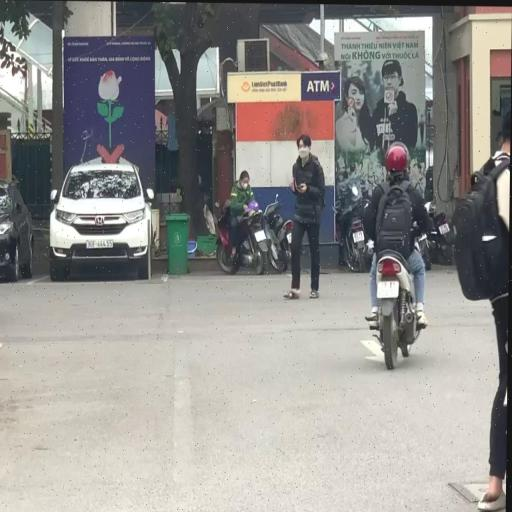bike: (360, 137, 432, 369)
numberplate: (378, 280, 400, 296), (353, 227, 365, 242), (438, 220, 450, 234), (256, 228, 266, 242)
with helmet: (386, 140, 408, 170)
